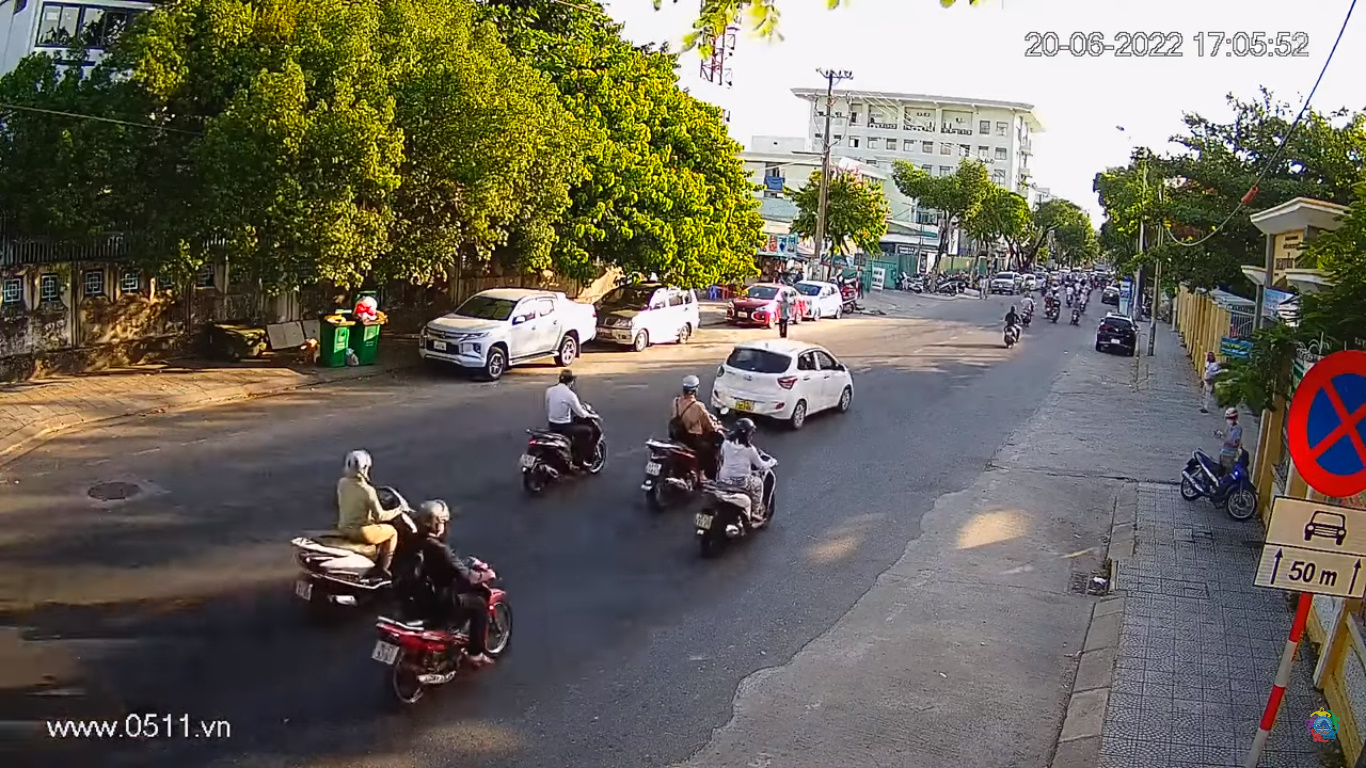car: (707, 337, 861, 433)
